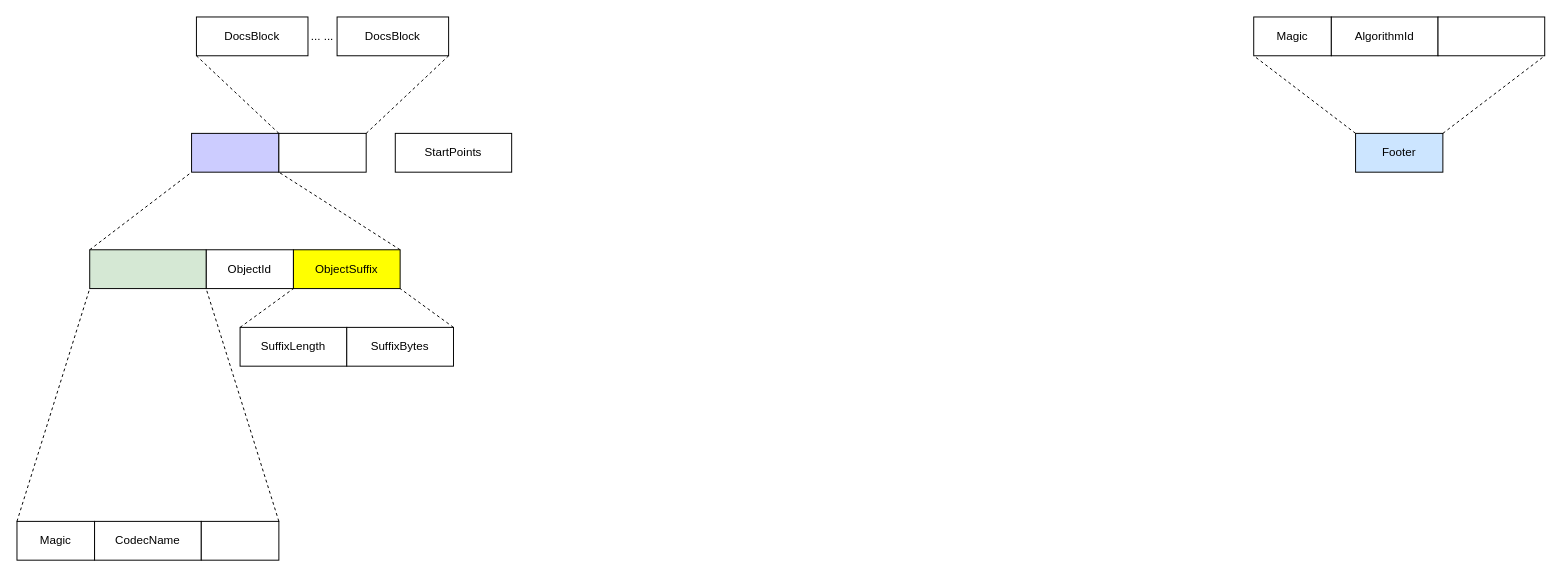
Image size: 1563x577. Some labels were removed from this diagram. Here are the shapes that lost their labels. From the top down, the centre of each, then its label:
(x=1491, y=36): CheckSum
(x=235, y=152): Header
(x=322, y=152): Docs
(x=147, y=269): CodecHeader
(x=239, y=540): Version
